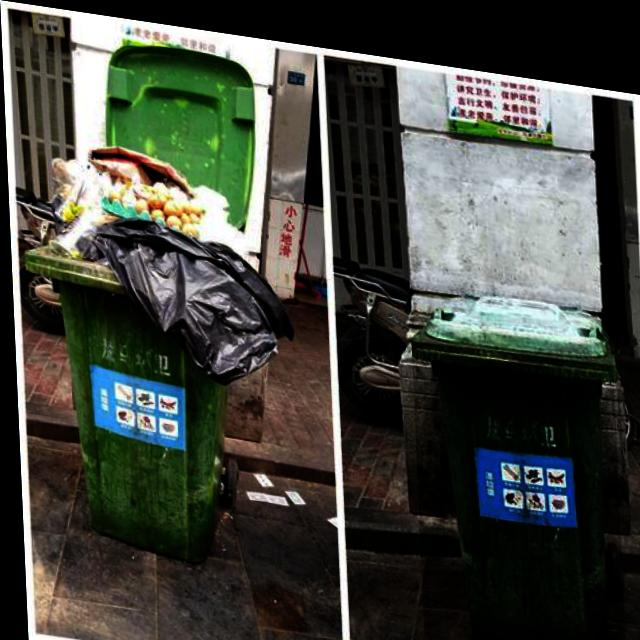garbage_bin: (407, 268, 622, 640)
overflow: (20, 130, 298, 568)
